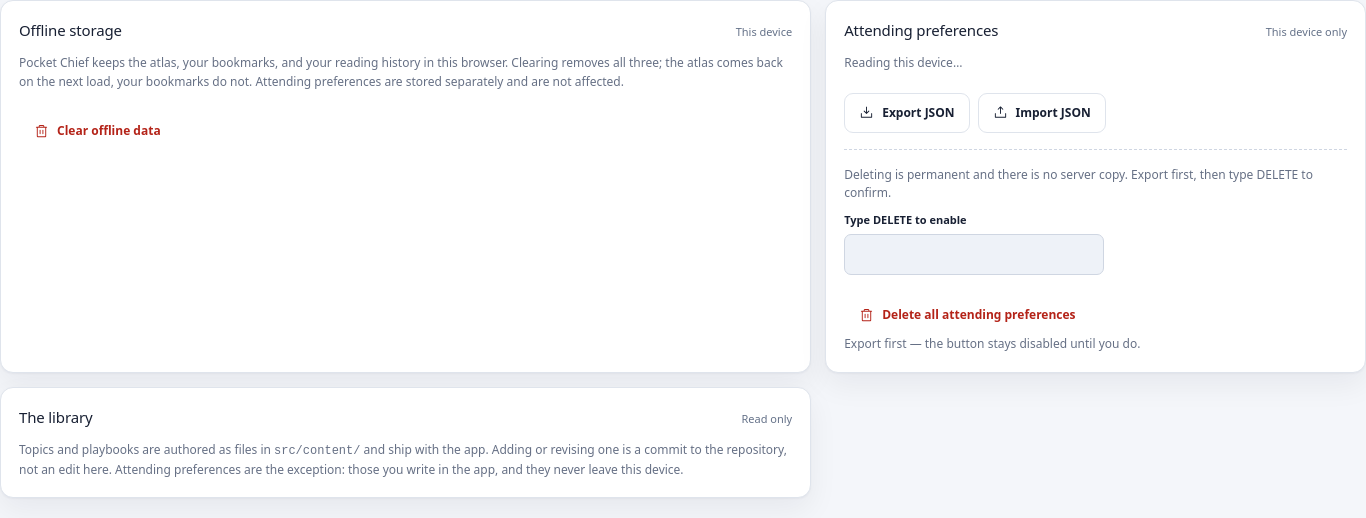
SettingsForm › reports failure without pretending the data is gone
Click the button "Clear offline data": (97, 131) left=19, top=111, right=176, bottom=151
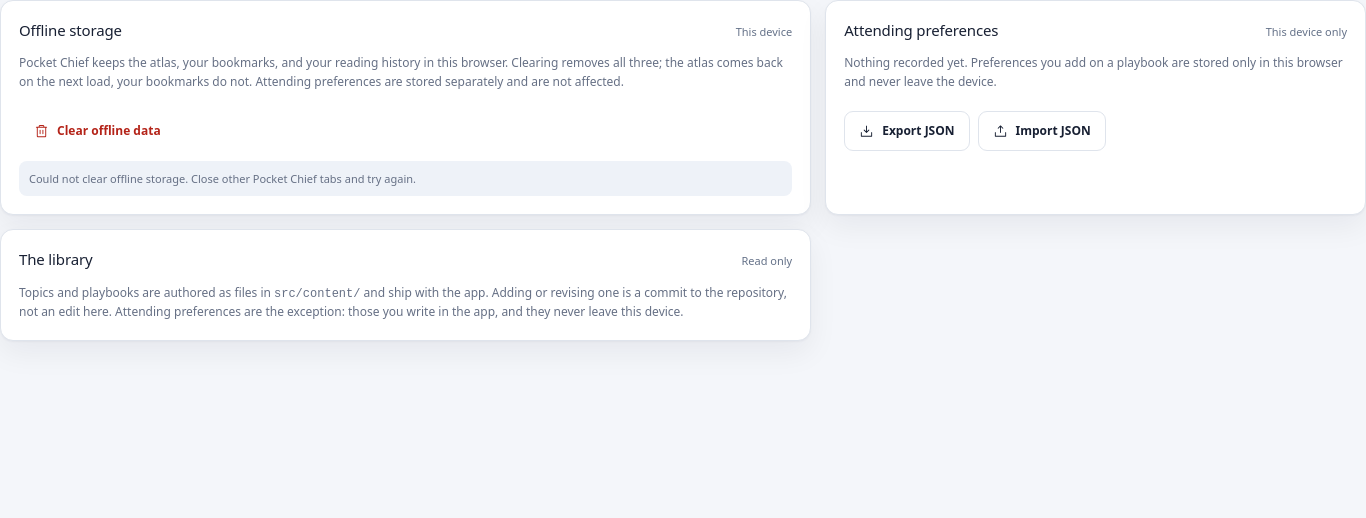
Expected: the message reads "Could not clear offline storage. Close other Pocket Chief tabs and try again.", left=29, top=171, right=416, bottom=186
